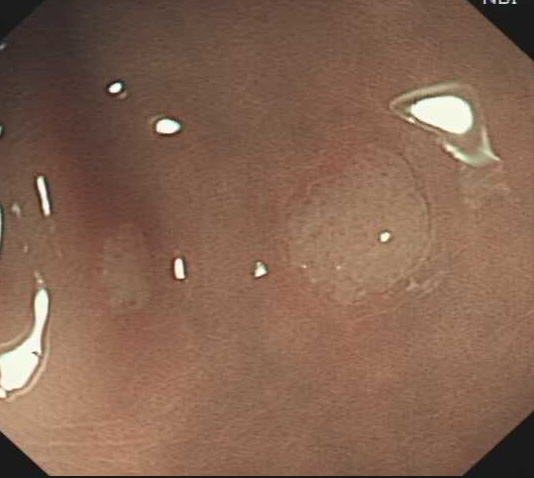others: (280, 142, 435, 305), (96, 223, 152, 312)
